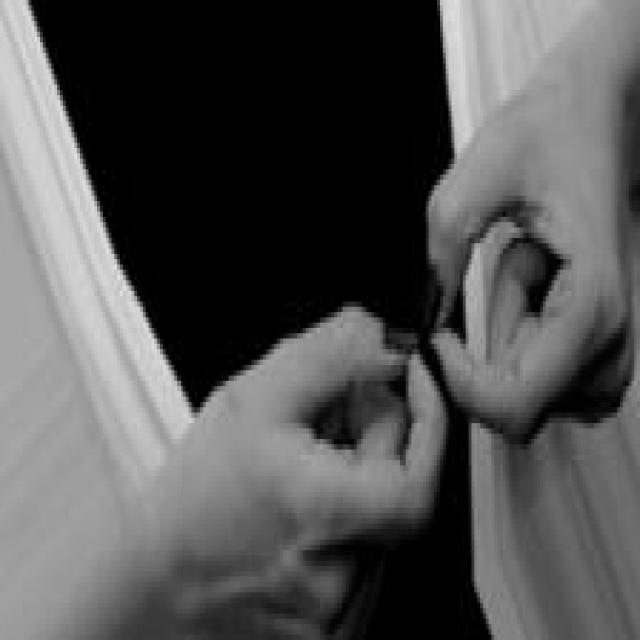B: (144, 95, 634, 640)
